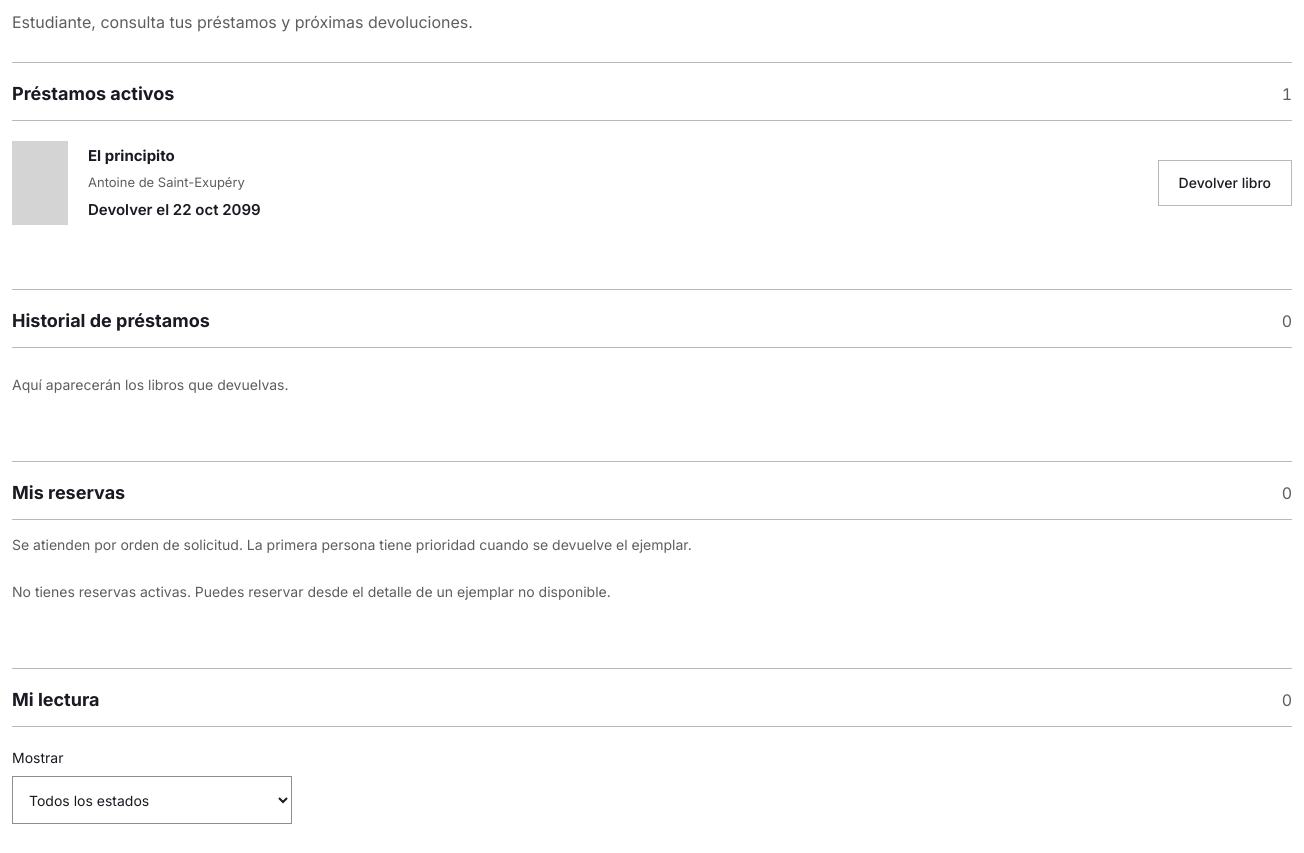
it: LoansPage y useLoans con el cliente HTTP real › devuelve el libro con Bearer y lo conserva en el historial
The width and height of the screenshot is (1304, 853).
Click the button "Devolver libro" at {"x": 1225, "y": 183}, box 1158,160 -> 1292,206
(page scrolled)
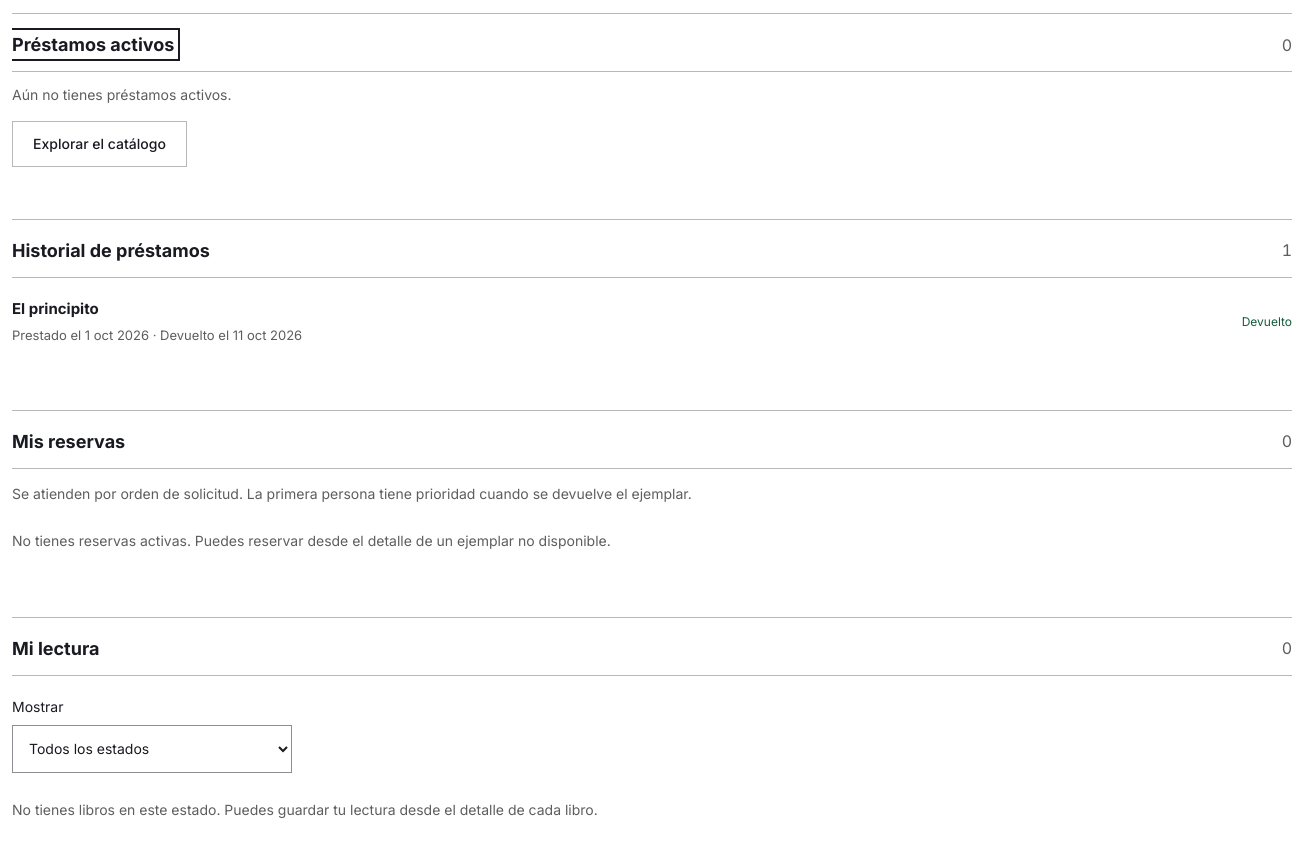
Check: the link "El principito" is shown, box 12,299 -> 99,318
Check: the text "Aún no tienes préstamos activos." is shown, box 12,86 -> 232,103
